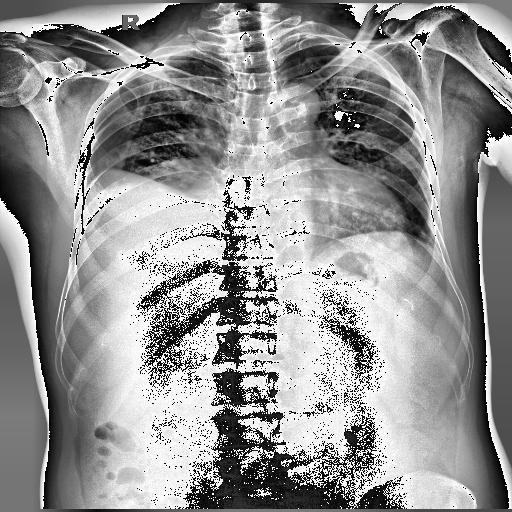0- Aortic enlargement: (268, 78, 322, 130)
10- Pleural effusion: (68, 164, 216, 284), (82, 160, 208, 270)
3- Cardiomegaly: (186, 164, 407, 236)
4- Consolidation: (68, 164, 216, 284)
7- Lung Opacity: (82, 160, 208, 270)
